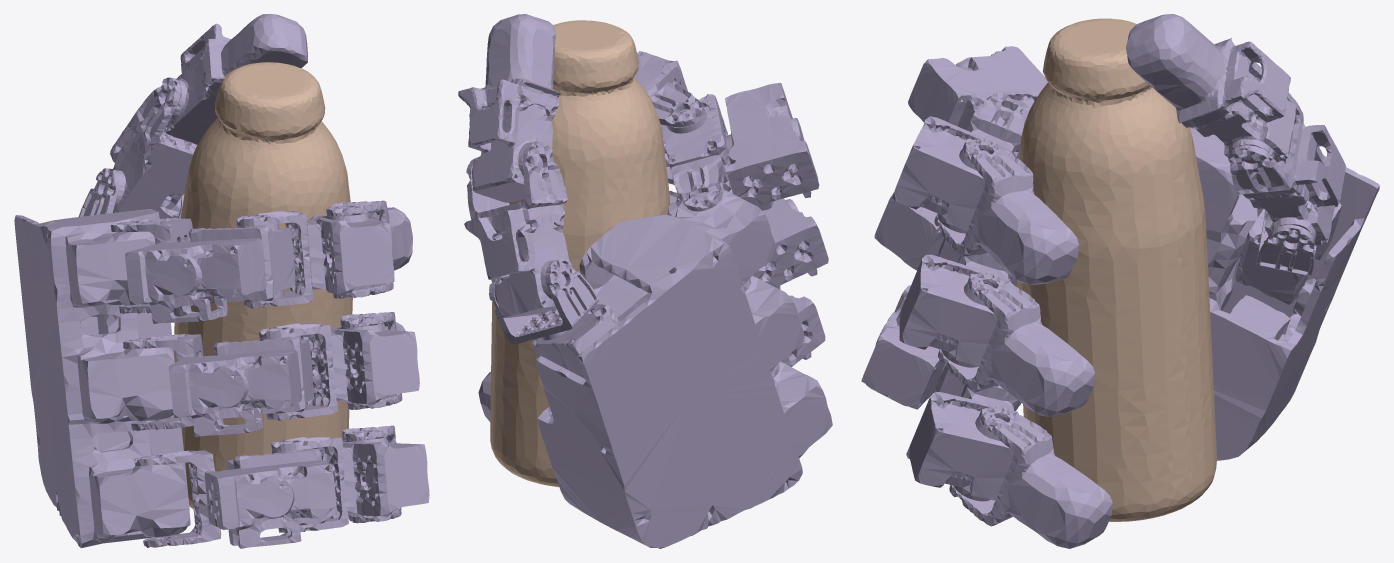
The model's file is case-01.glb.
3 renders of one model, left to right at view 1: azimuth 30°, elevation 25°; view 2: azimuth 150°, elevation 25°; view 3: azimuth 270°, elevation 25°, orthographic. The views are drawn at different scales.
Parts seen in each view (by area): view 1: world, simplified.obj; view 2: world, simplified.obj; view 3: world, simplified.obj.
Part boxes in pixels (left/top/right/bottom): world: left=14, top=14, right=429, bottom=548; simplified.obj: left=173, top=62, right=352, bottom=509; world: left=458, top=14, right=832, bottom=548; simplified.obj: left=490, top=20, right=669, bottom=487; world: left=861, top=14, right=1379, bottom=548; simplified.obj: left=1017, top=18, right=1216, bottom=521.
Size of the model in its own units: 0.144 by 0.2016 by 0.1849.
